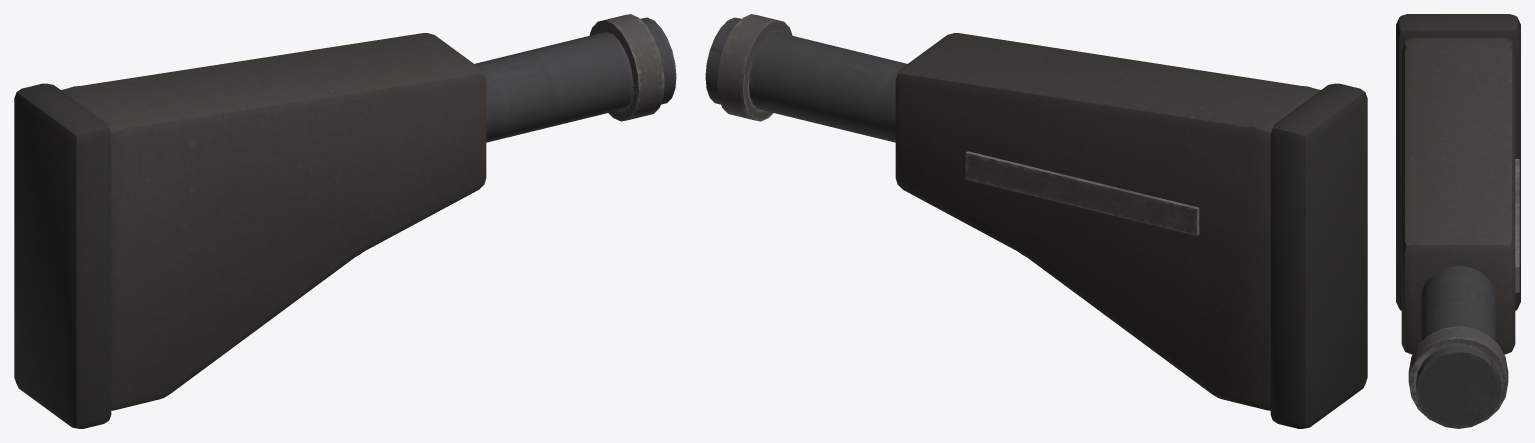
File: ratchet_stock.glb
The picture shows the model from 3 angles, left to right: view 1: azimuth 30°, elevation 25°; view 2: azimuth 150°, elevation 25°; view 3: azimuth 270°, elevation 25°; orthographic projection. The views are drawn at different scales.
Parts seen in each view (by area): view 1: Slider, ratchet_stock; view 2: Slider, ratchet_stock; view 3: Slider, ratchet_stock.
Part boxes in pixels (x1,y1,x2,y2): Slider: (14, 33, 486, 428); ratchet_stock: (475, 14, 676, 142); Slider: (895, 33, 1367, 428); ratchet_stock: (705, 14, 906, 142); Slider: (1396, 14, 1520, 354); ratchet_stock: (1408, 265, 1508, 428).
Bounding box in the file's own units: 0.238 × 0.112 × 0.044.
Materials: 1 (1 with a texture image).
